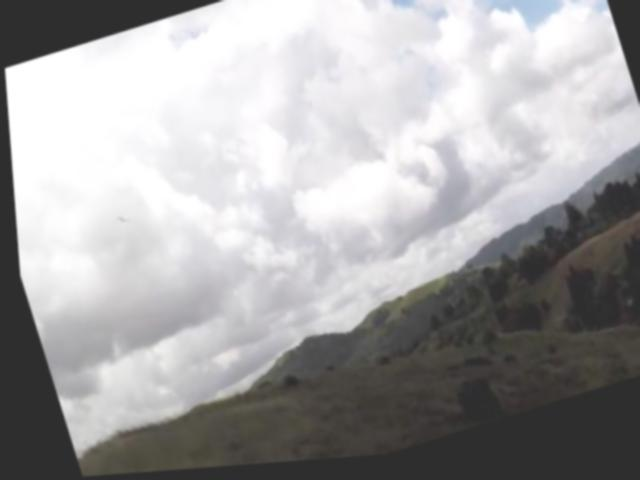iha: (110, 211, 127, 229)
